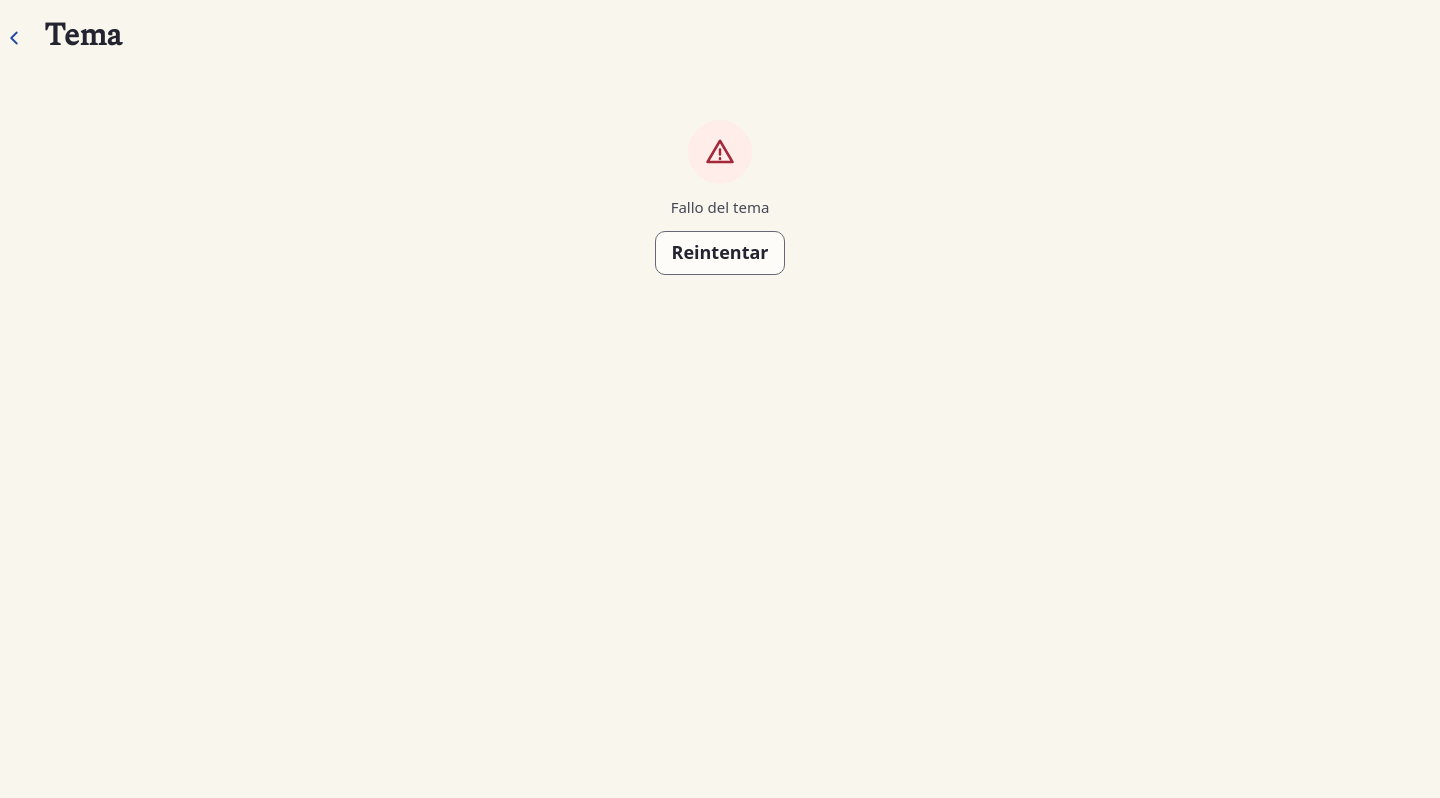
Test: muestra carga, vacío y error con reintentar
Later steps or results of the test are not shown.
Expected: the message shows "Fallo del tema", x1=671 y1=197 x2=769 y2=217
Step 1. Click the button "Reintentar" → (720, 253), box x1=654 y1=231 x2=786 y2=275
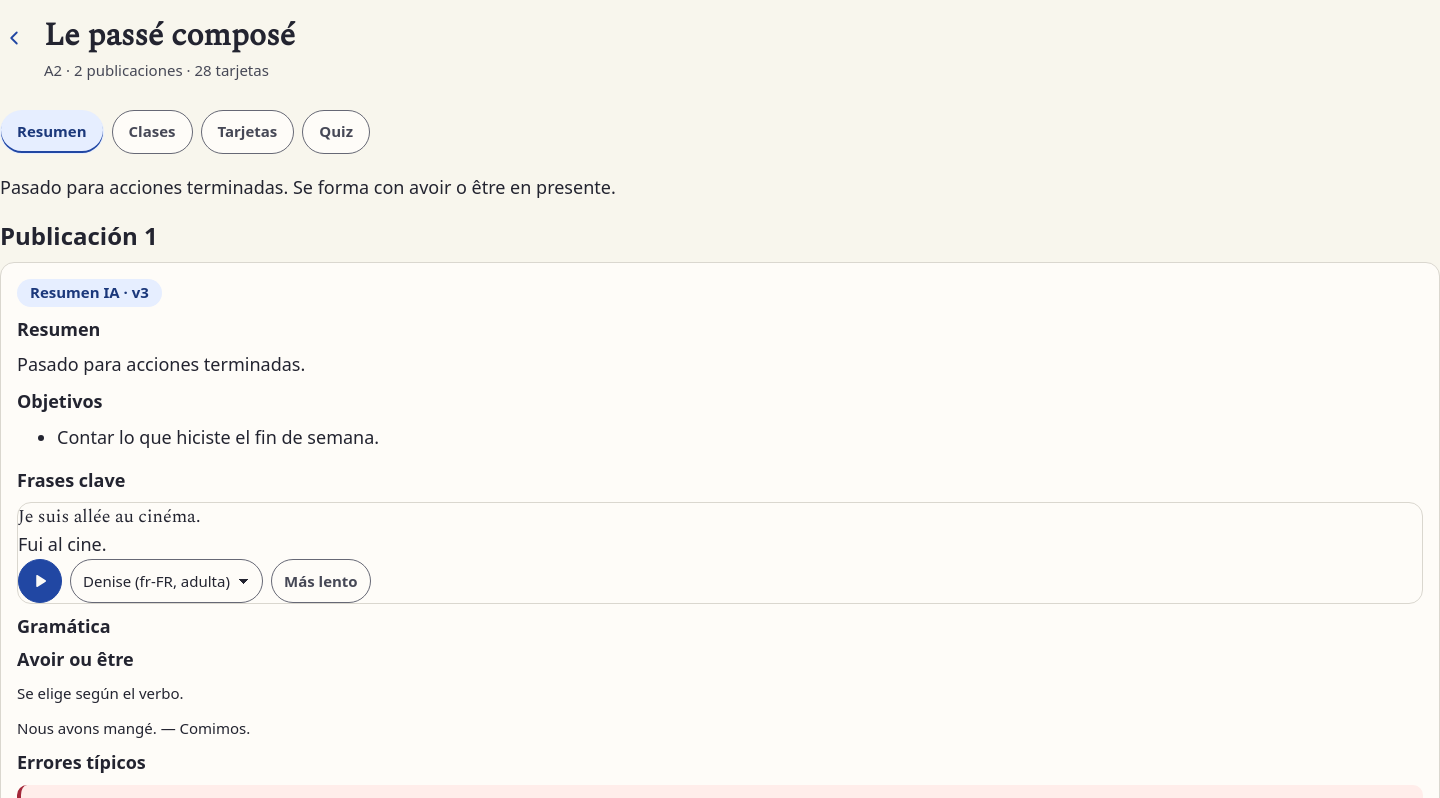
Expected: the heading "Le passé composé" is shown, x1=44 y1=11 x2=295 y2=60
